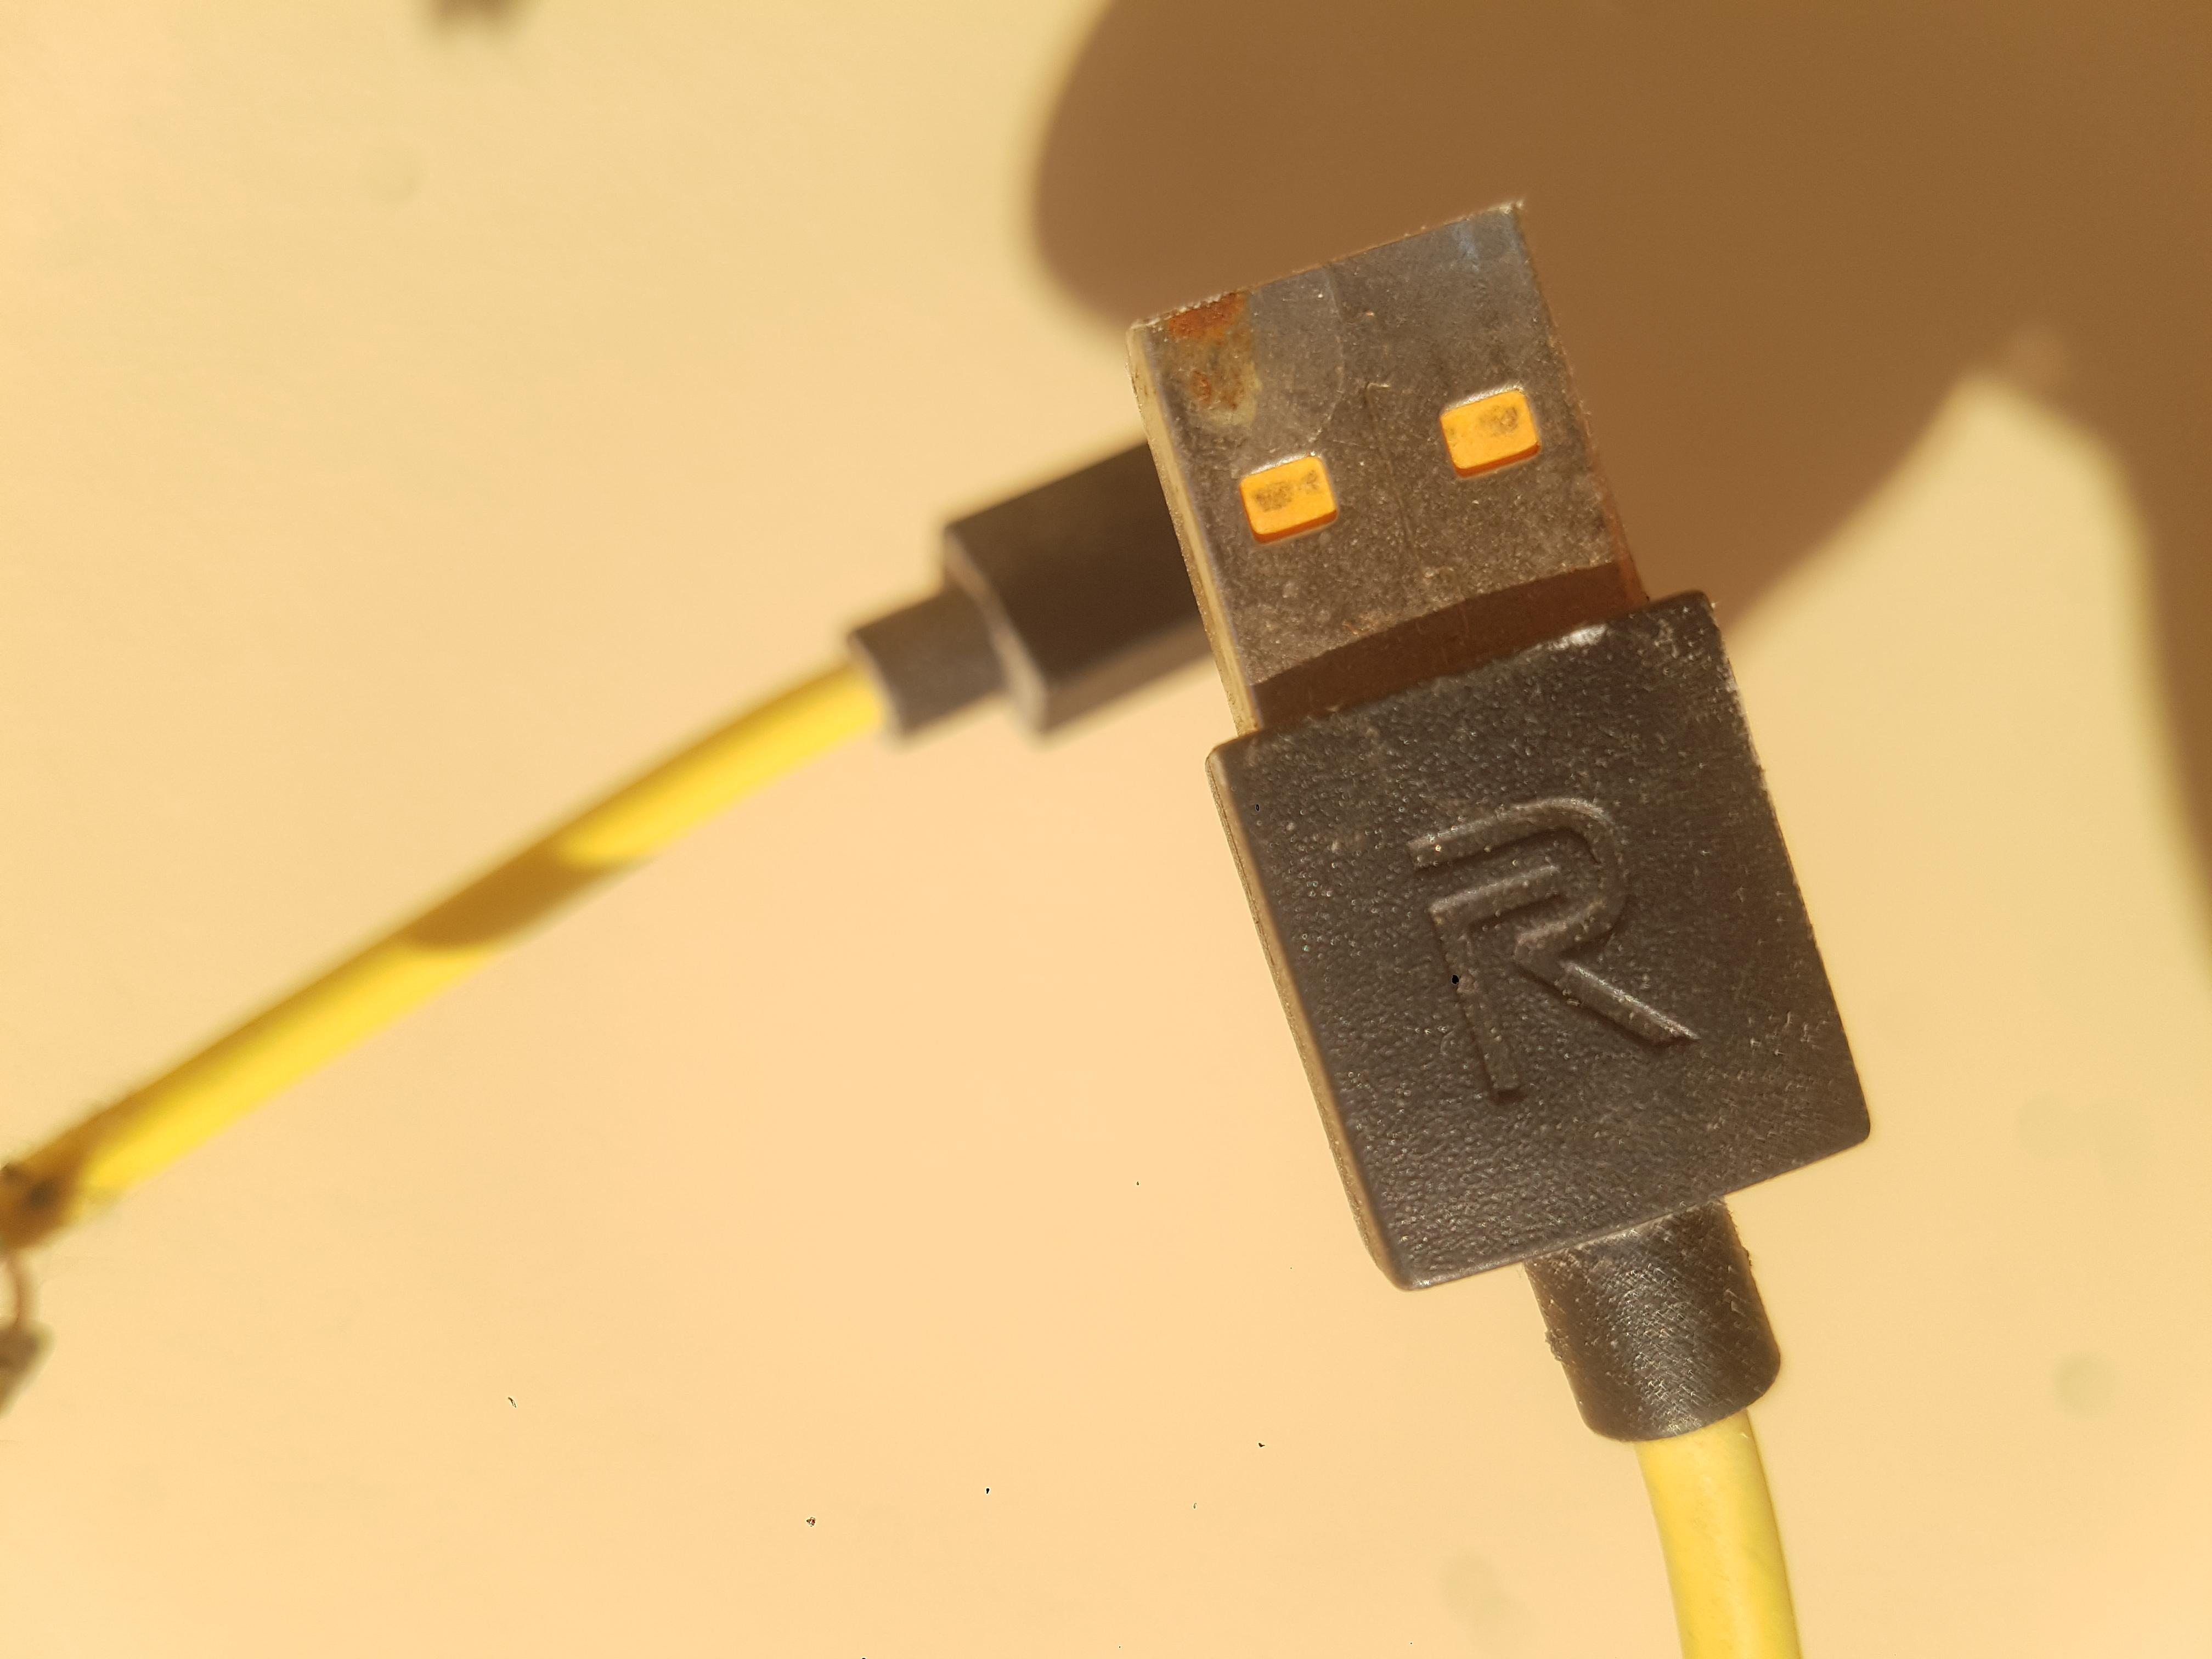electronic: (0, 840, 1886, 1412), (272, 3, 1533, 856)
